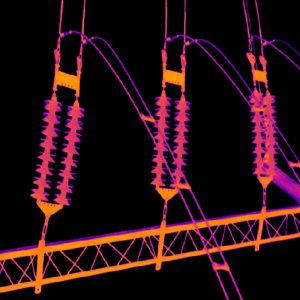insulator: (28, 93, 62, 201), (52, 98, 85, 204), (149, 90, 172, 186), (168, 93, 191, 188), (259, 91, 277, 176), (248, 86, 265, 173)
